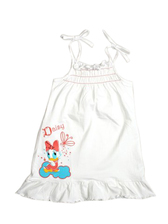clothoes: (15, 31, 163, 203)
